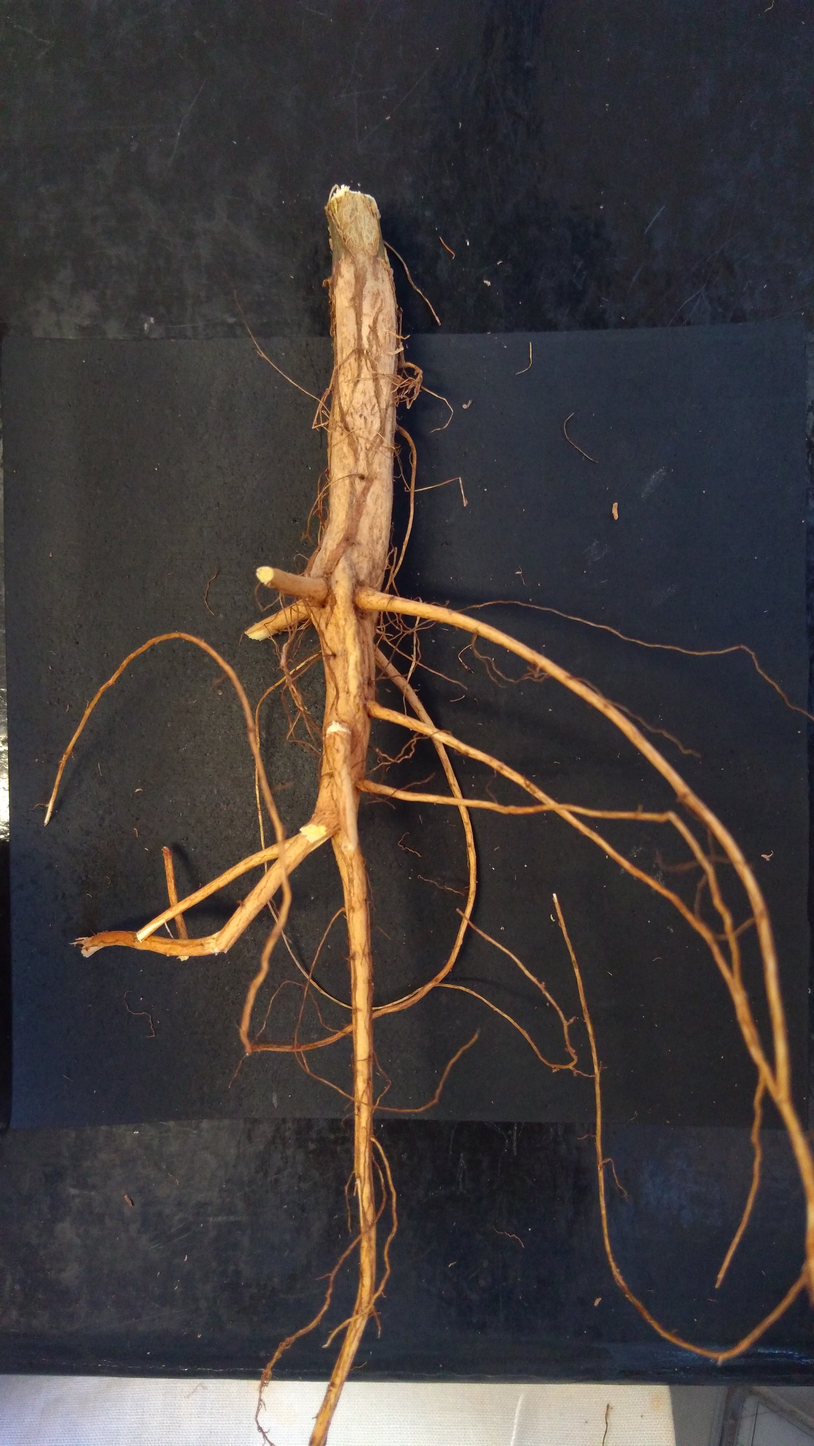nodule: (461, 404, 468, 409)
